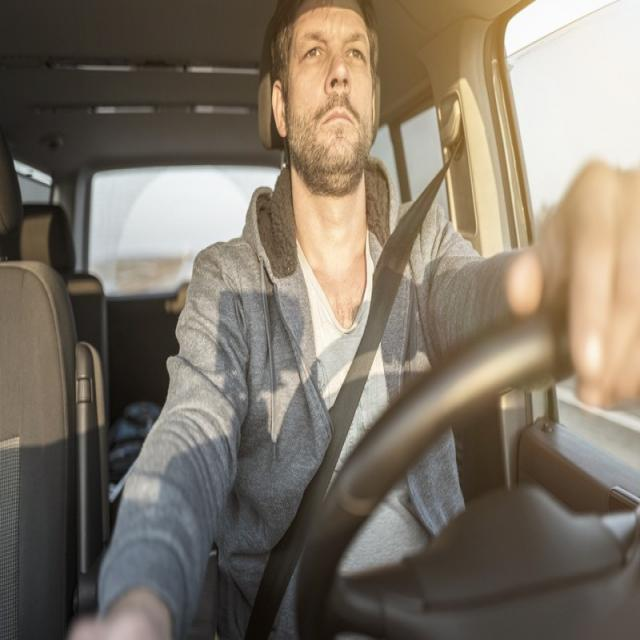seatbelt: (232, 117, 474, 638)
